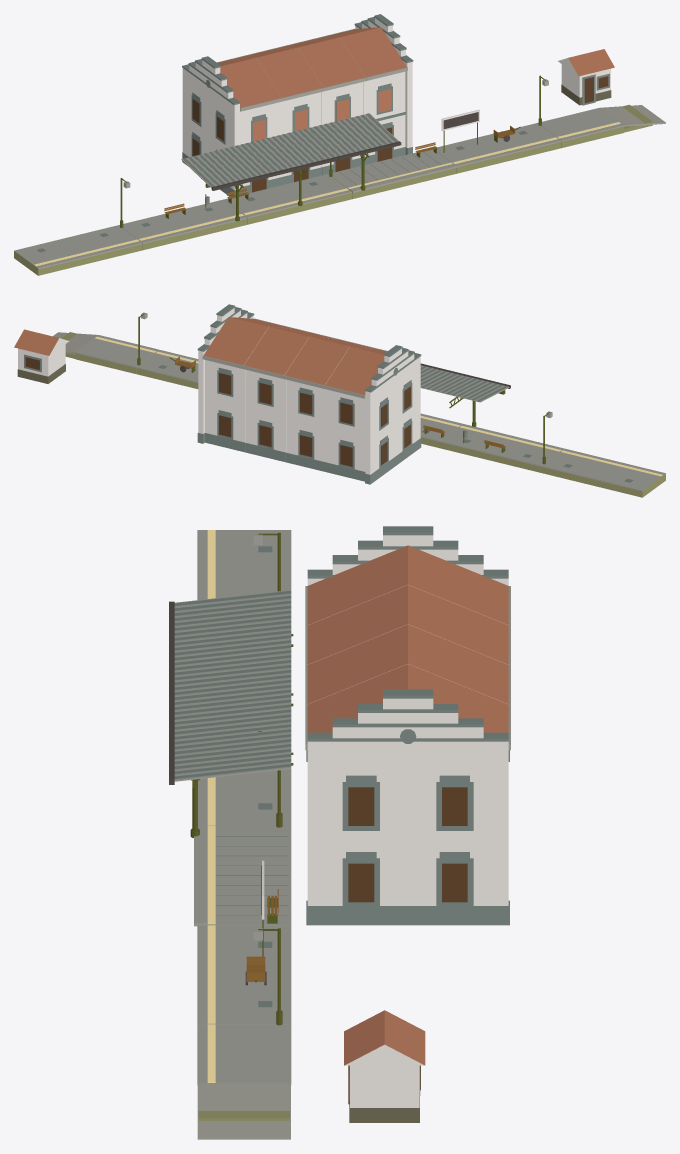
File: SM_EstacionNules_v1_LOD0.fbx
The picture shows the model from 3 angles, top to bottom: view 1: azimuth 30°, elevation 25°; view 2: azimuth 150°, elevation 25°; view 3: azimuth 270°, elevation 25°; orthographic projection. The views are drawn at different scales.
Visible parts, largest first — view 1: SM_bloques.estacion_nules_v1_LOD0; view 2: SM_bloques.estacion_nules_v1_LOD0; view 3: SM_bloques.estacion_nules_v1_LOD0.
Boxes of the visible parts, x1,y1,x2,y2 form: SM_bloques.estacion_nules_v1_LOD0: (14, 14, 665, 275); SM_bloques.estacion_nules_v1_LOD0: (14, 304, 665, 497); SM_bloques.estacion_nules_v1_LOD0: (169, 526, 510, 1139).
Bounding box in the file's own units: 59.99 × 10.96 × 14.62.
